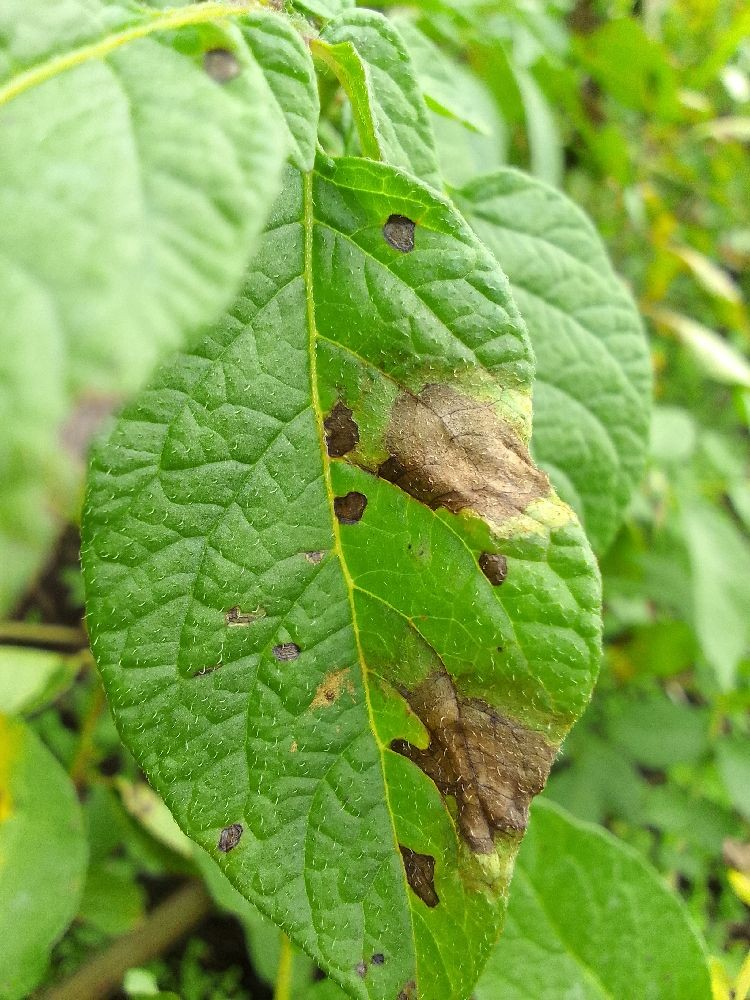late_blight: (296, 354, 577, 544), (386, 652, 575, 873), (2, 844, 266, 1000), (0, 495, 132, 757)
